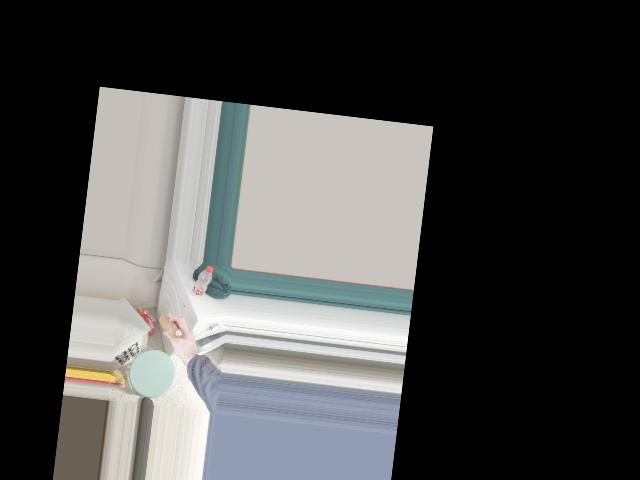sweet_potato: (158, 311, 187, 342)
